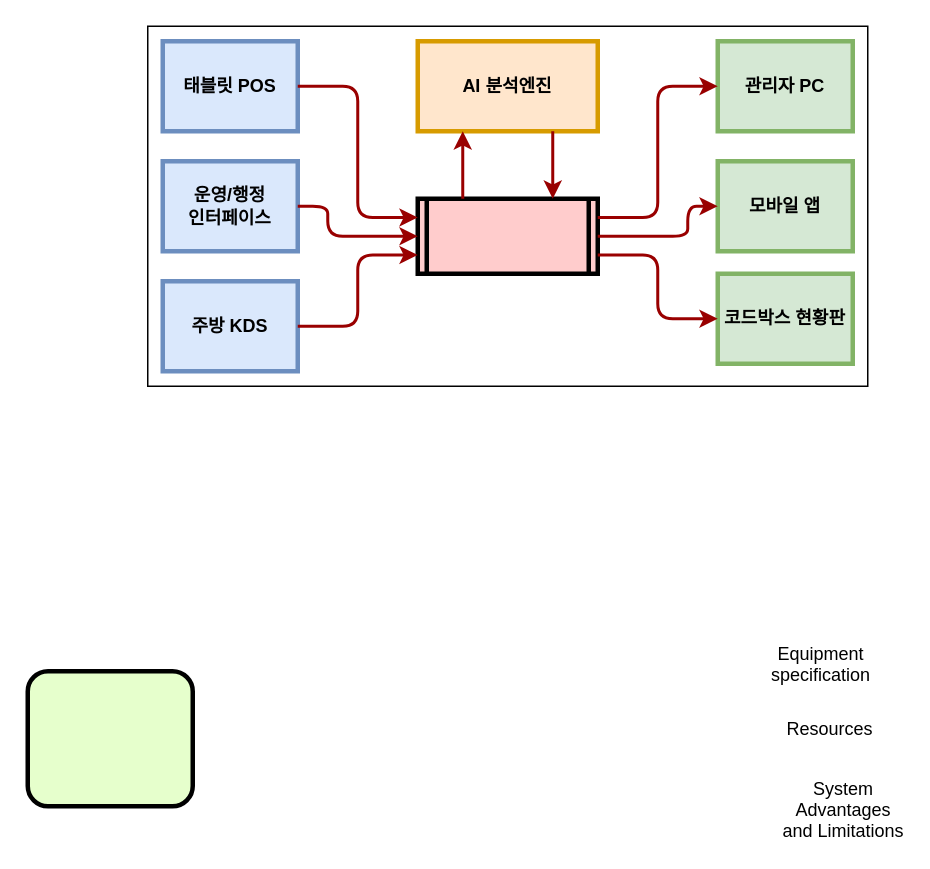
Image size: 930x869. Some labels were removed from this diagram. Here are the shapes that lost their labels. From the top down, the box of each, then its label:
(415, 196, 599, 275): ERP 중앙 서버
(25, 668, 194, 808): Process 6 New System Construction
